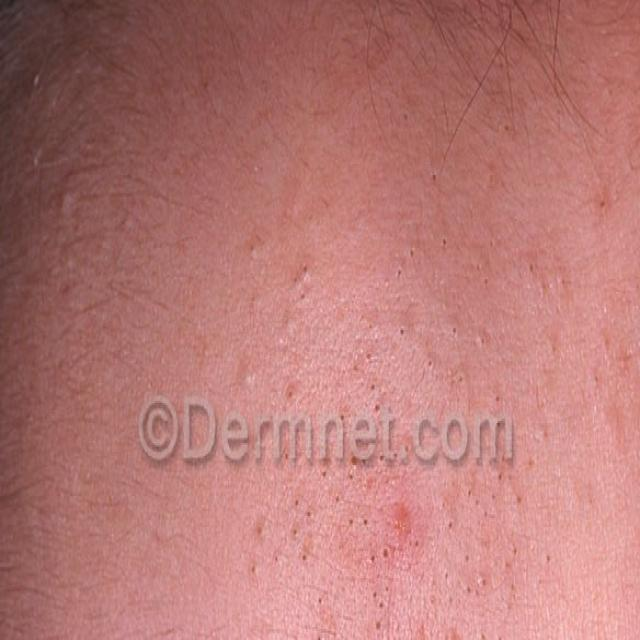Acne: (19, 60, 640, 640), (275, 304, 550, 640)
